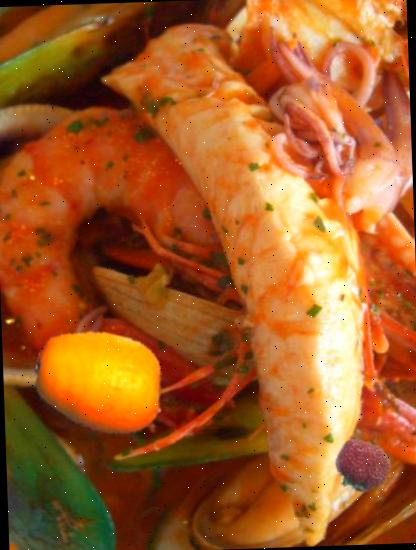Kumquats: (32, 312, 169, 450)
Strawberry: (332, 437, 391, 496)
